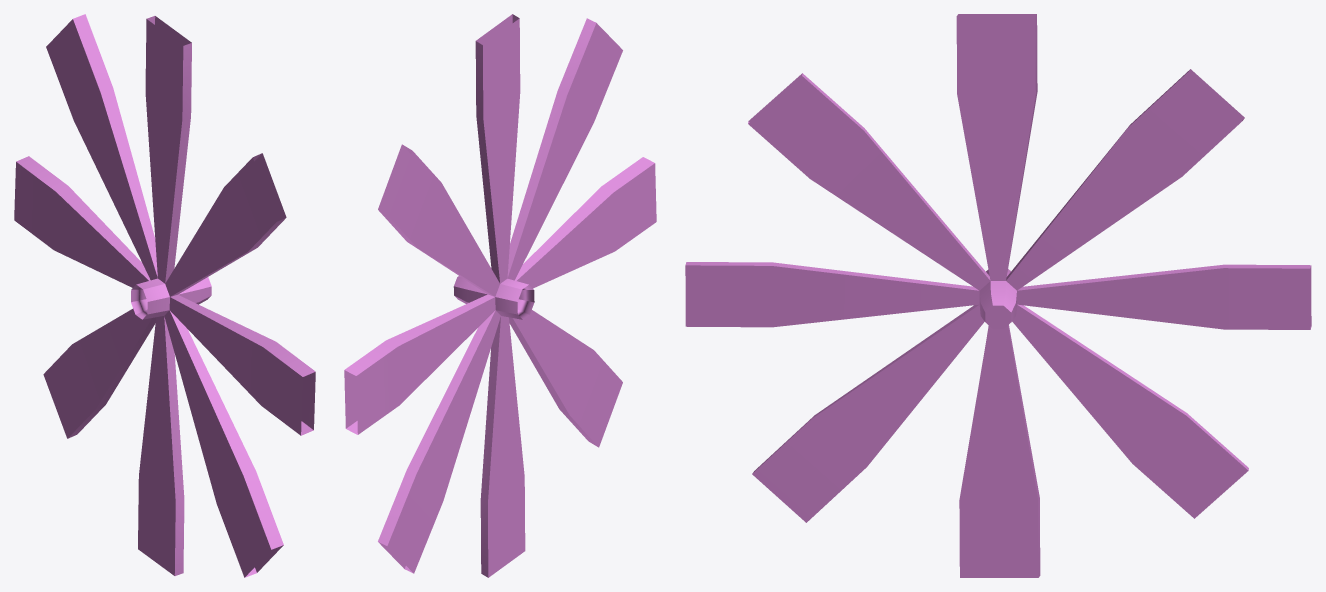
The model's file is Vent2.fbx.
3 views of the same model, side by side, from view 1: azimuth 30°, elevation 25°; view 2: azimuth 150°, elevation 25°; view 3: azimuth 270°, elevation 25° (orthographic). The views are drawn at different scales.
Parts seen in each view (by area): view 1: Ventilador; view 2: Ventilador; view 3: Ventilador.
Boxes of the visible parts, x1,y1,x2,y2 form: Ventilador: (14,14,315,577); Ventilador: (344,14,656,577); Ventilador: (685,14,1311,577).
Size of the model in its own units: 13.71 by 104 by 104.
